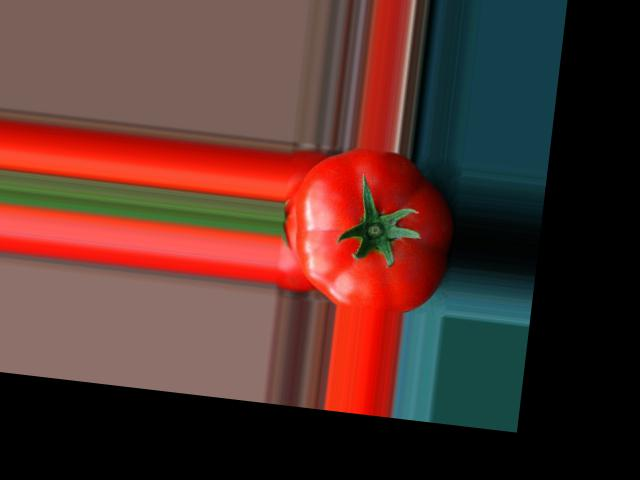tomato: (284, 140, 461, 317)
